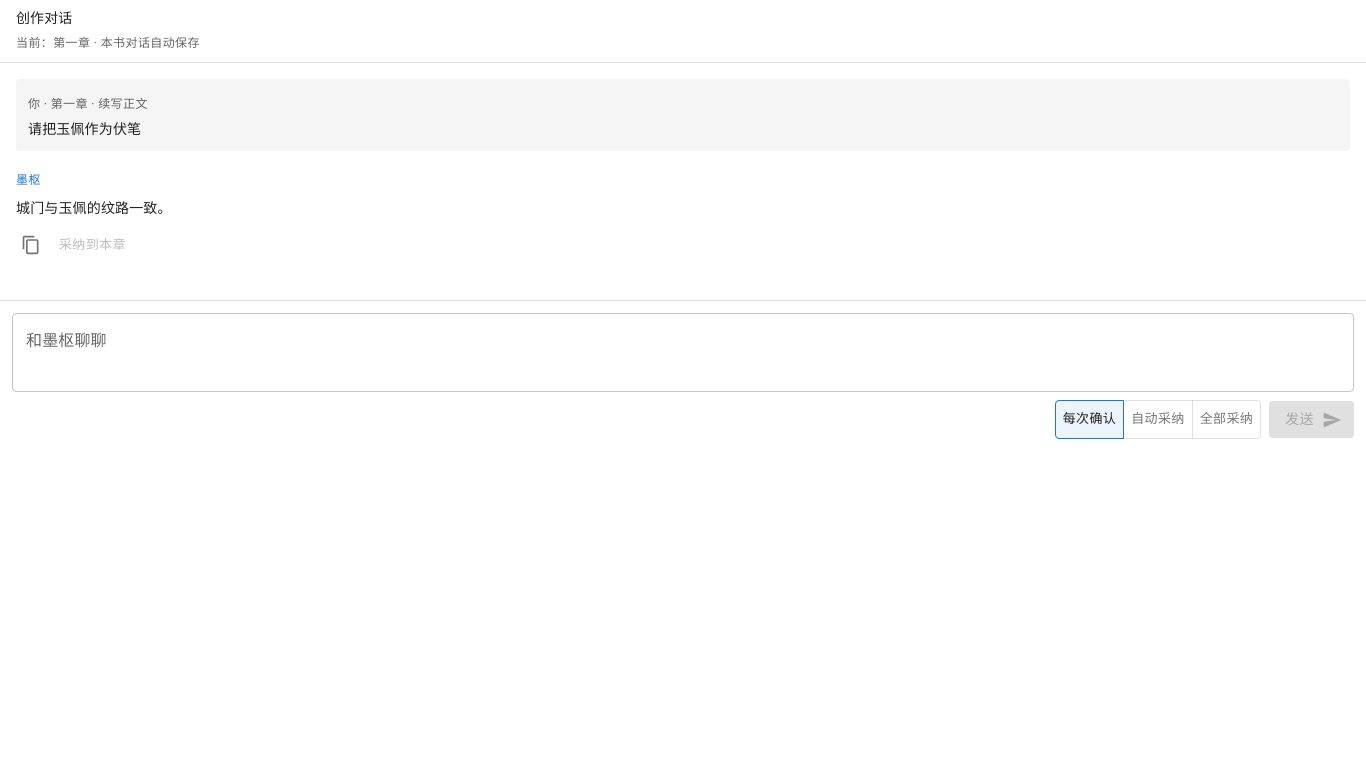
常驻对话面板 › 网络失败保留未送达的问题，不覆盖正在输入的下一条草稿
Expected: the text "城门与玉佩的纹路一致。" is shown, [16,200,172,216]
Type "未送达的问题" into the text box labelled "和墨枢聊聊".
click(683, 353); type("未送达的问题")  # box [26,330,1340,376]
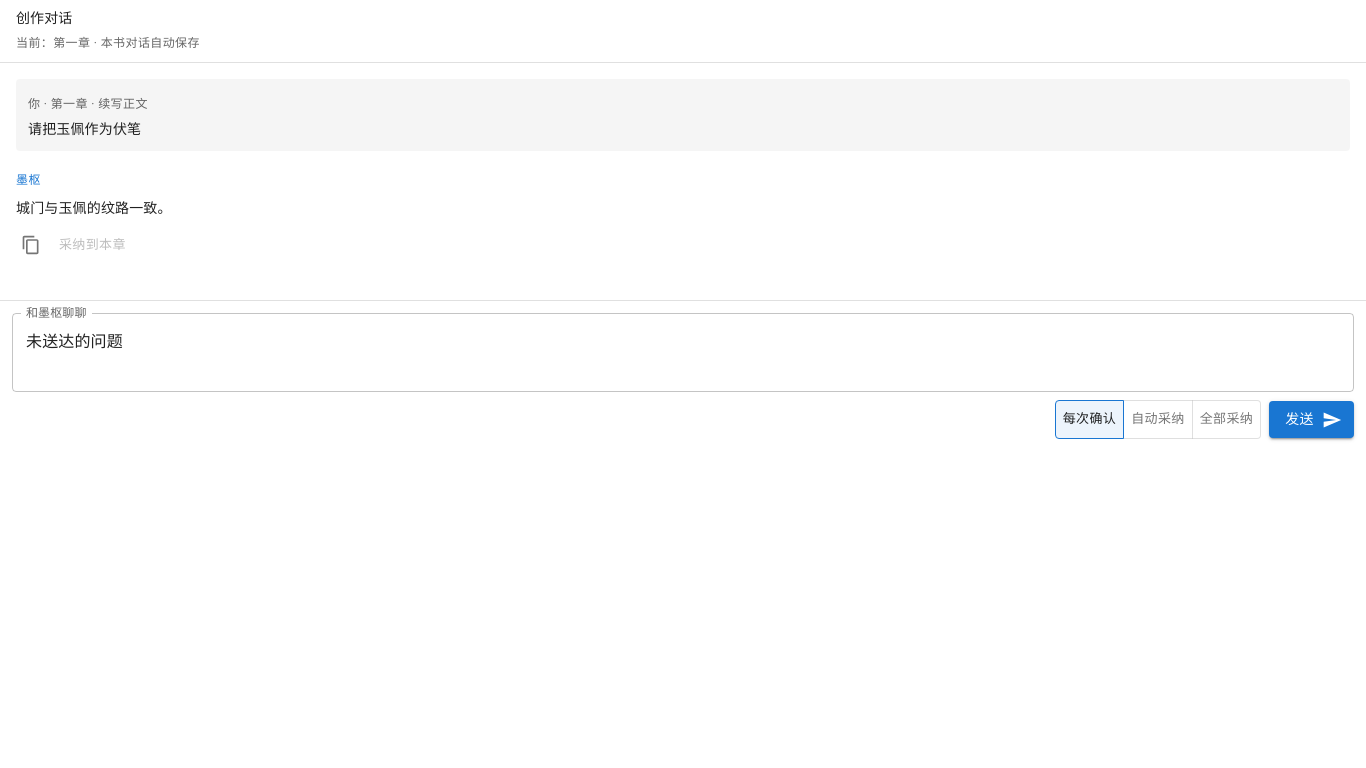
Click the button "发送".
click(1312, 420)  # box [1269,402,1354,438]
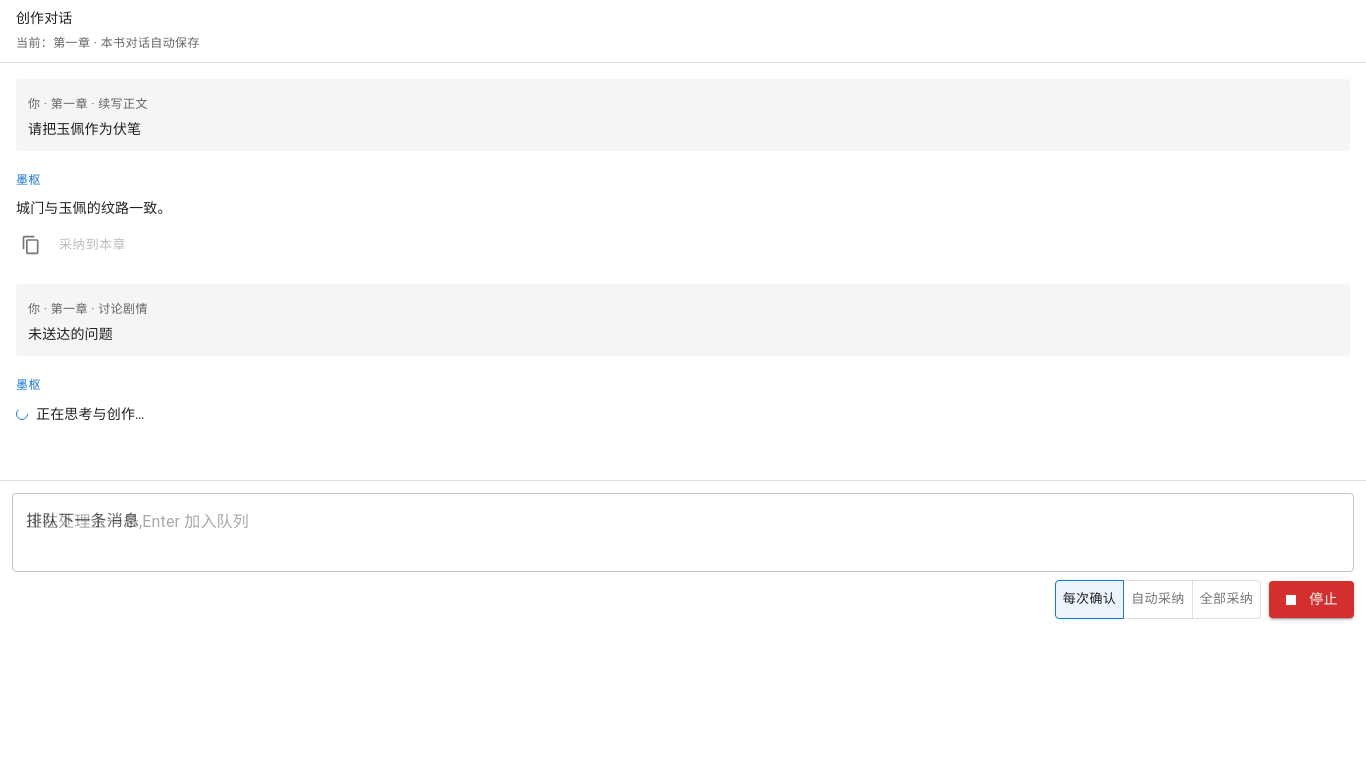
Type "正在写的下一条" into the text box named "和墨枢聊聊".
click(683, 533); type("正在写的下一条")  # box [26,510,1340,556]
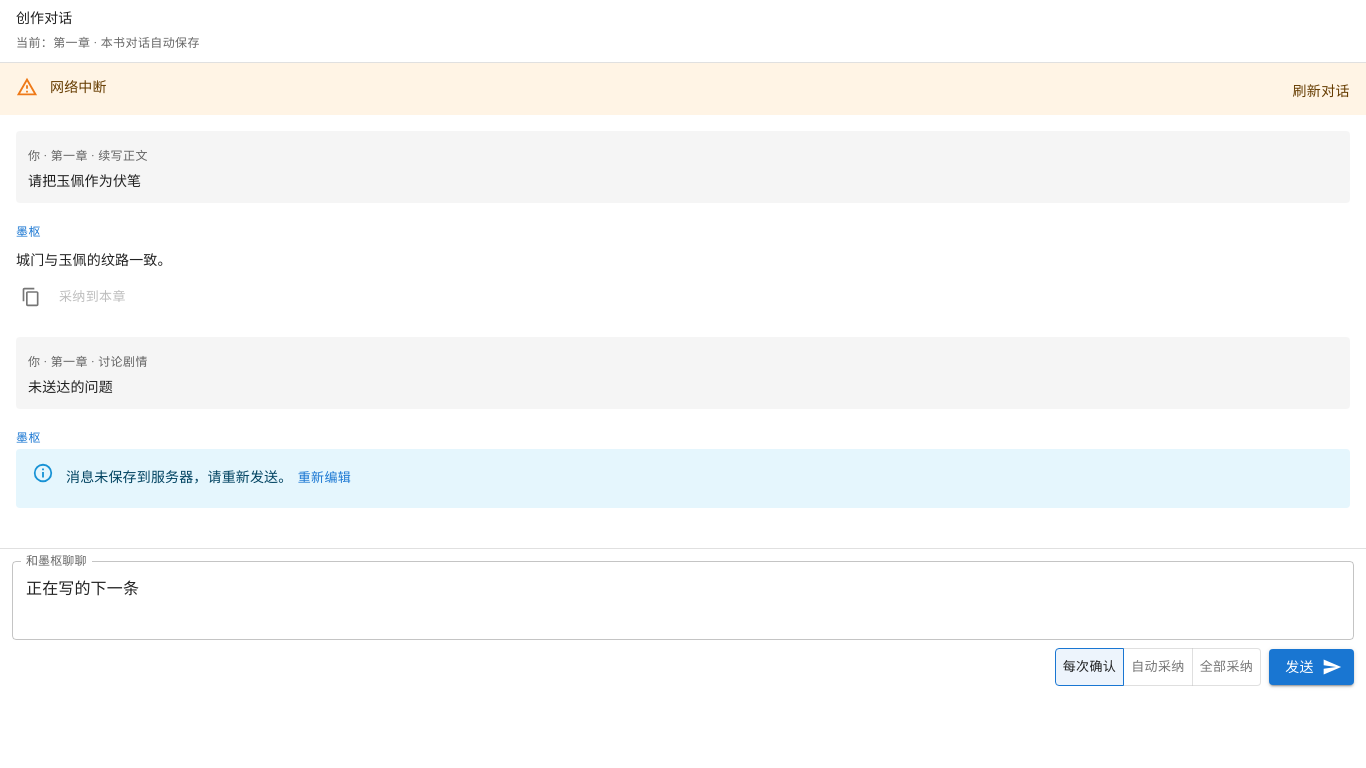
Expected: the text "未送达的问题" is shown, [28,379,113,395]
Expected: the text "消息未保存到服务器，请重新发送。" is shown, [66,469,292,485]
